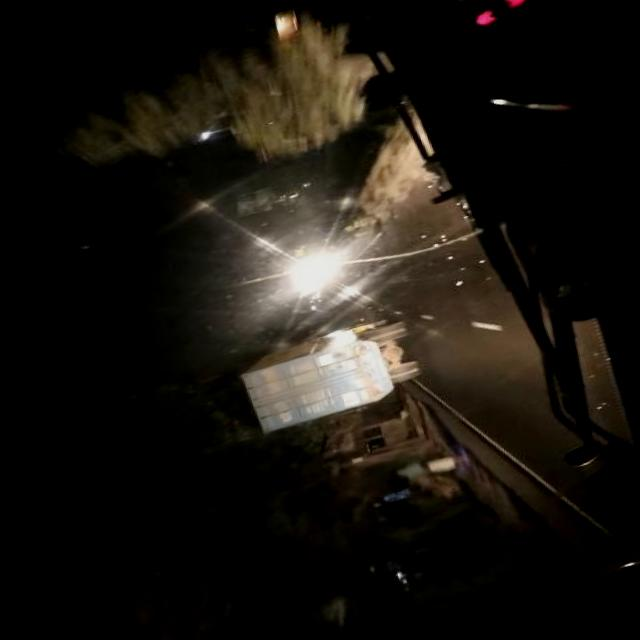truck: (231, 312, 422, 438)
